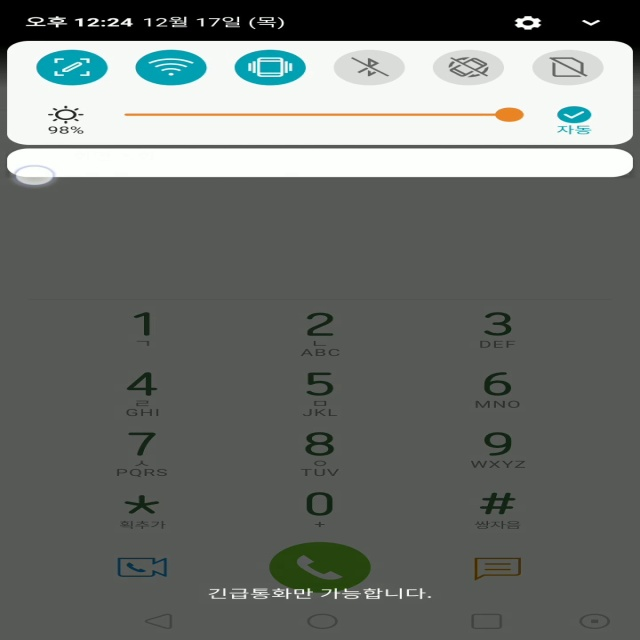Cursor: (13, 165, 57, 187)
